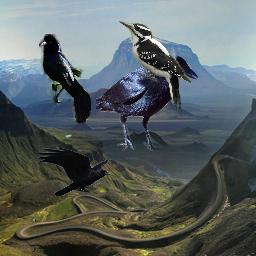Crow: (96, 54, 198, 152), (39, 34, 91, 123), (37, 147, 111, 196)
Woodpecker: (118, 18, 191, 113)
